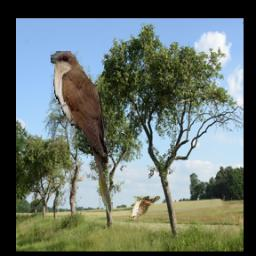Cuckoo: (51, 51, 113, 213), (129, 196, 161, 220)
